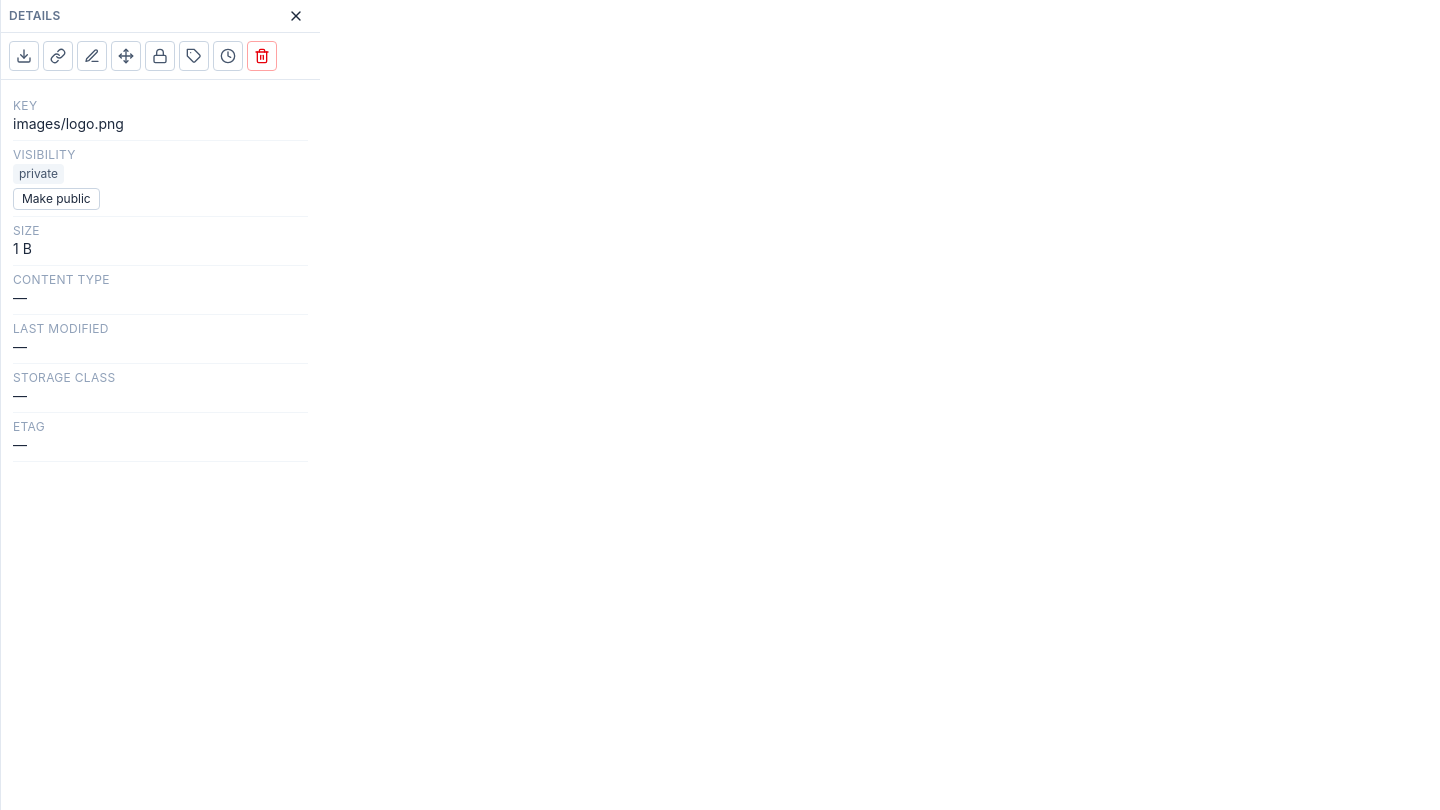
Test case: MetadataPanel versions › opens the Versions dialog from the actions row
This screenshot has width=1440, height=810.
Click the button named "Versions" at x=228, y=56, box top-left (213, 41), bottom-right (243, 71)
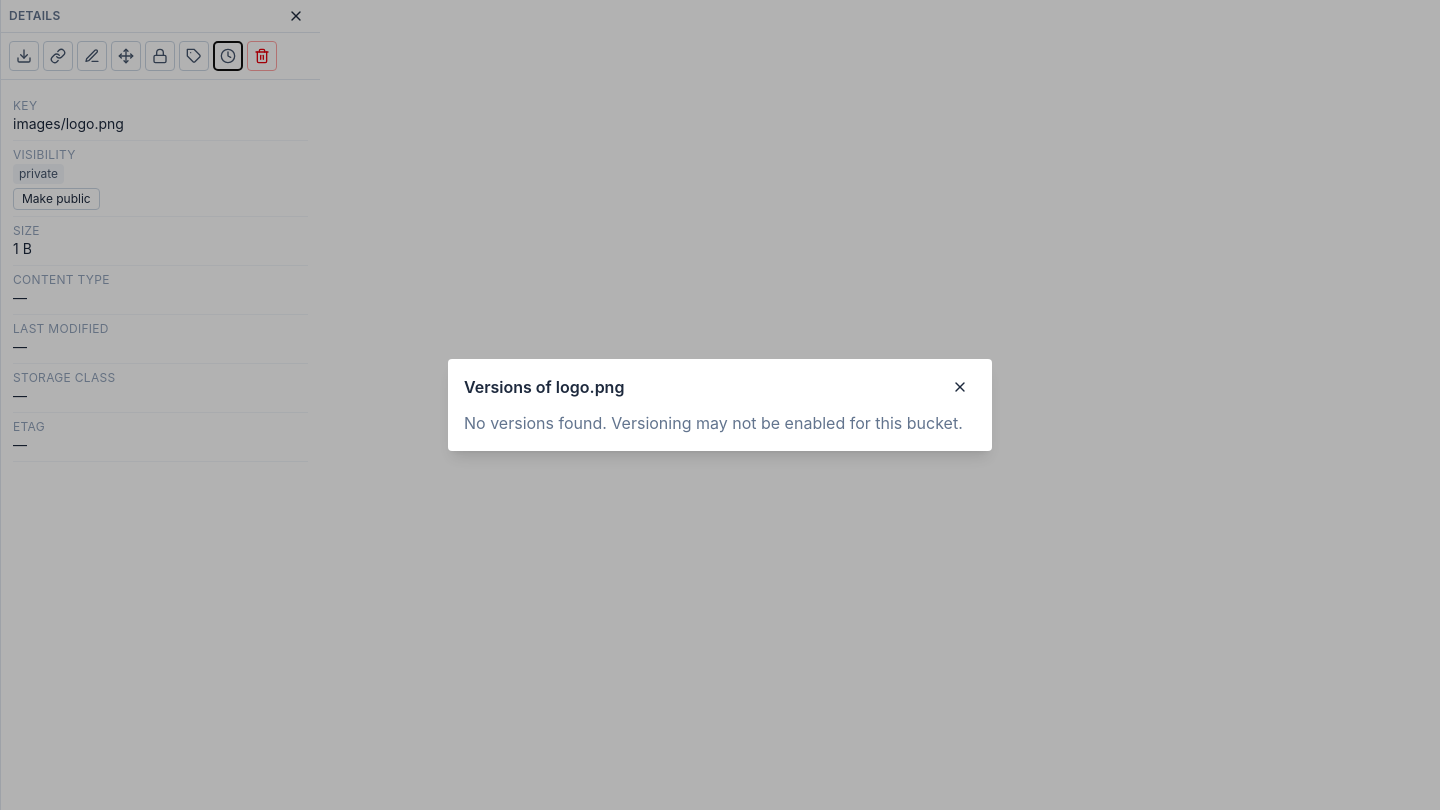
Expected: the heading "Versions of logo.png" is shown, top-left (464, 375), bottom-right (624, 399)
